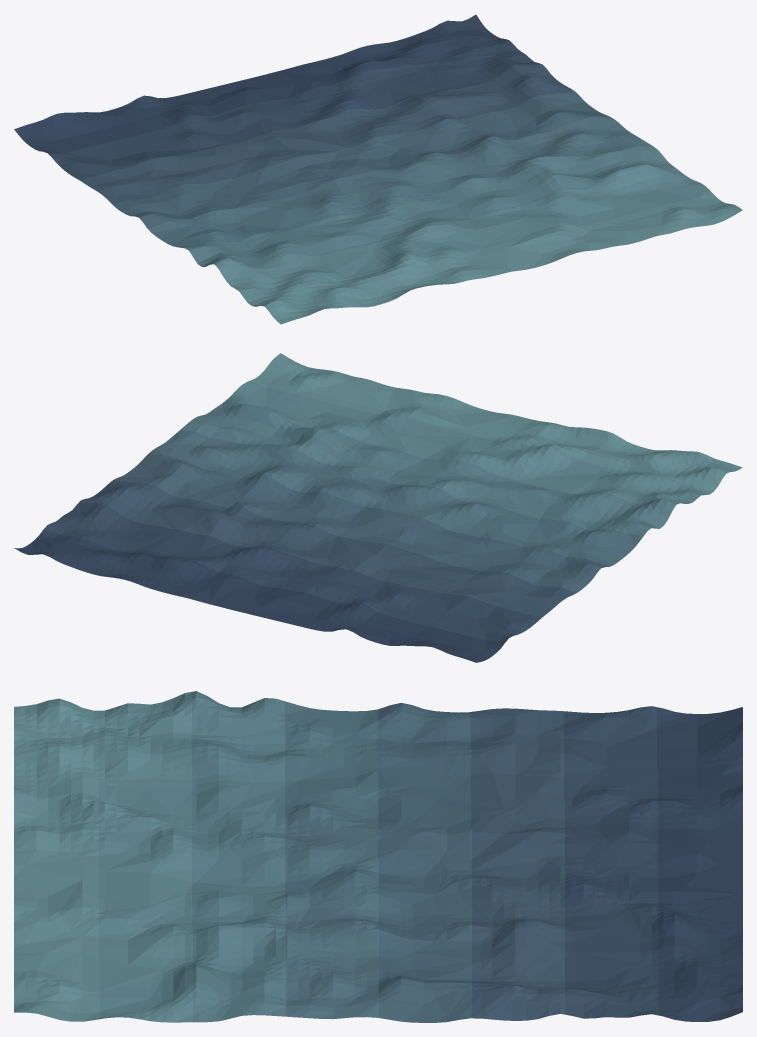
The model's file is Terrain.FBX.
3 views of the same model, one above another, from view 1: azimuth 30°, elevation 25°; view 2: azimuth 150°, elevation 25°; view 3: azimuth 270°, elevation 25° (orthographic). The views are drawn at different scales.
Parts seen in each view (by area): view 1: Terrain; view 2: Terrain; view 3: Terrain.
Part boxes in pixels (left/top/right/bottom): Terrain: left=14, top=14, right=742, bottom=324; Terrain: left=14, top=353, right=742, bottom=662; Terrain: left=14, top=691, right=742, bottom=1022.
Bounding box in the file's own units: 1000 × 42.87 × 1000.
